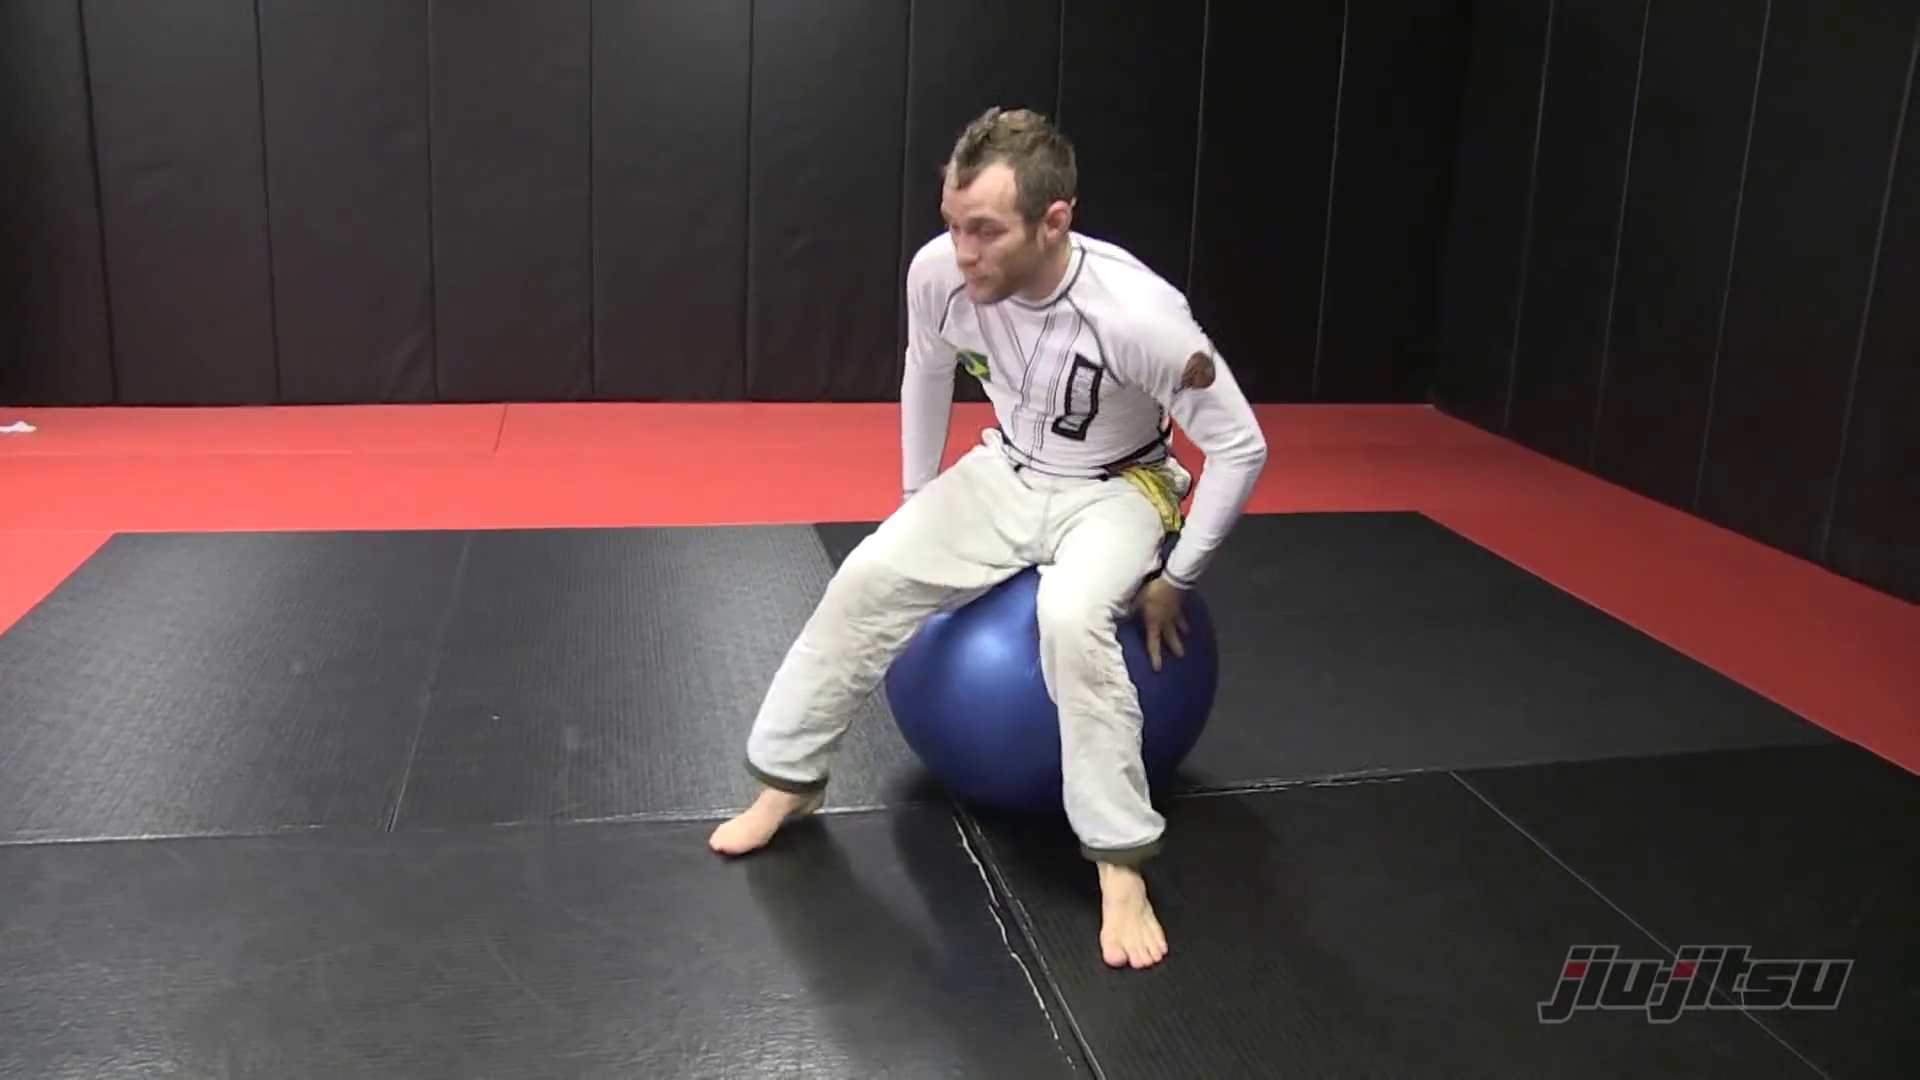yogaball: (865, 531, 1230, 837)
